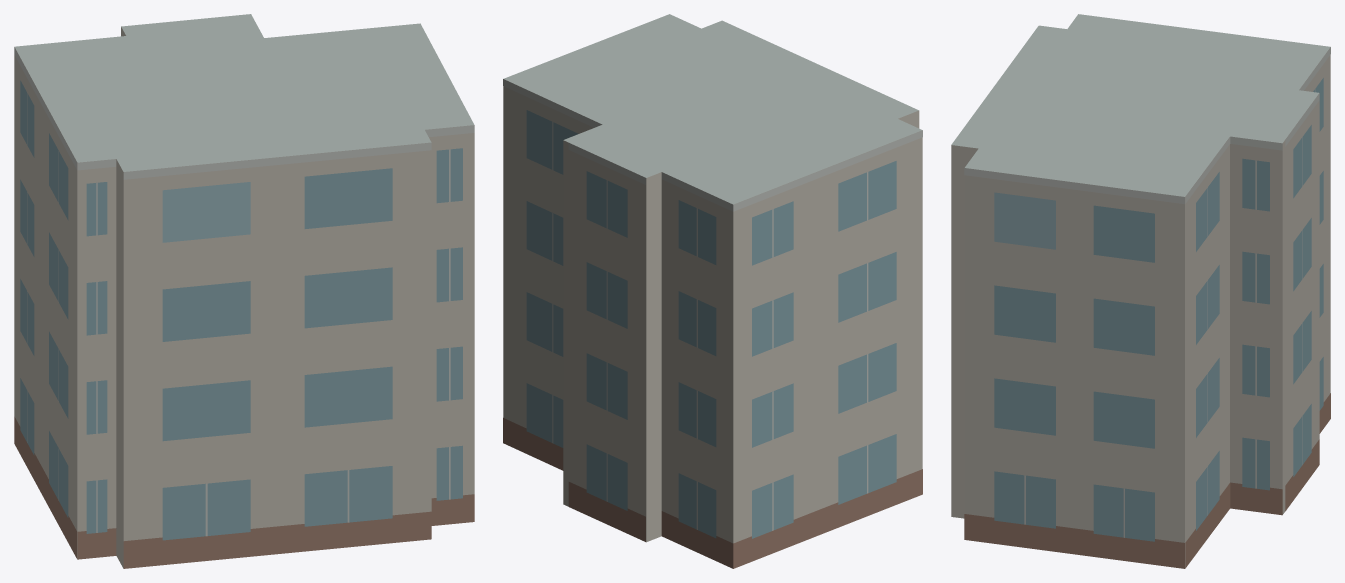
Rendered from survey-upis-32901188.glb.
3 renders of one model, left to right at view 1: azimuth 30°, elevation 25°; view 2: azimuth 150°, elevation 25°; view 3: azimuth 270°, elevation 25°, orthographic. The views are drawn at different scales.
Visible parts, largest first — view 1: survey-upis-32901188.tmp; view 2: survey-upis-32901188.tmp; view 3: survey-upis-32901188.tmp.
Boxes of the visible parts, x1,y1,x2,y2 form: survey-upis-32901188.tmp: [14, 14, 474, 568]; survey-upis-32901188.tmp: [503, 14, 922, 568]; survey-upis-32901188.tmp: [951, 14, 1330, 568].
Size of the model in its own units: 13.09 by 12.4 by 11.48.
